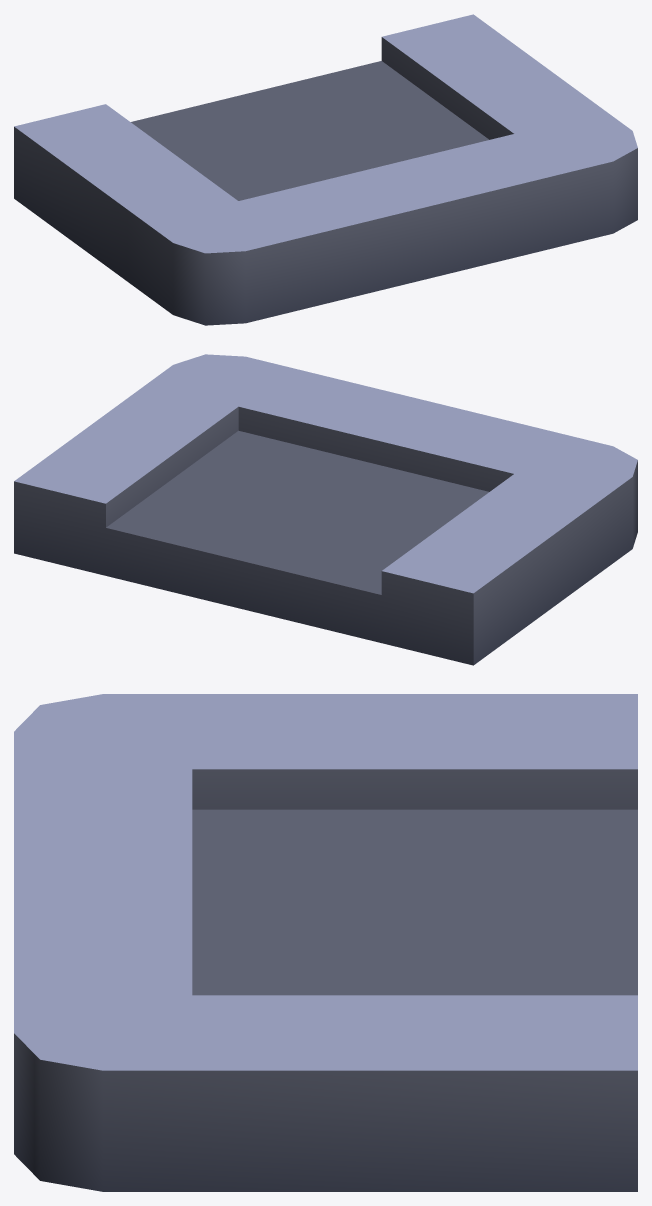
File: balcony-floor.glb
3 views of the same model, one above another, from view 1: azimuth 30°, elevation 25°; view 2: azimuth 150°, elevation 25°; view 3: azimuth 270°, elevation 25° (orthographic). The views are drawn at different scales.
Parts seen in each view (by area): view 1: balcony-floor; view 2: balcony-floor; view 3: balcony-floor.
Boxes of the visible parts, left/top/right/bottom form: balcony-floor: left=14, top=14, right=637, bottom=325; balcony-floor: left=14, top=354, right=637, bottom=665; balcony-floor: left=14, top=694, right=637, bottom=1191.
Size of the model in its own units: 1 by 0.15 by 0.7.
